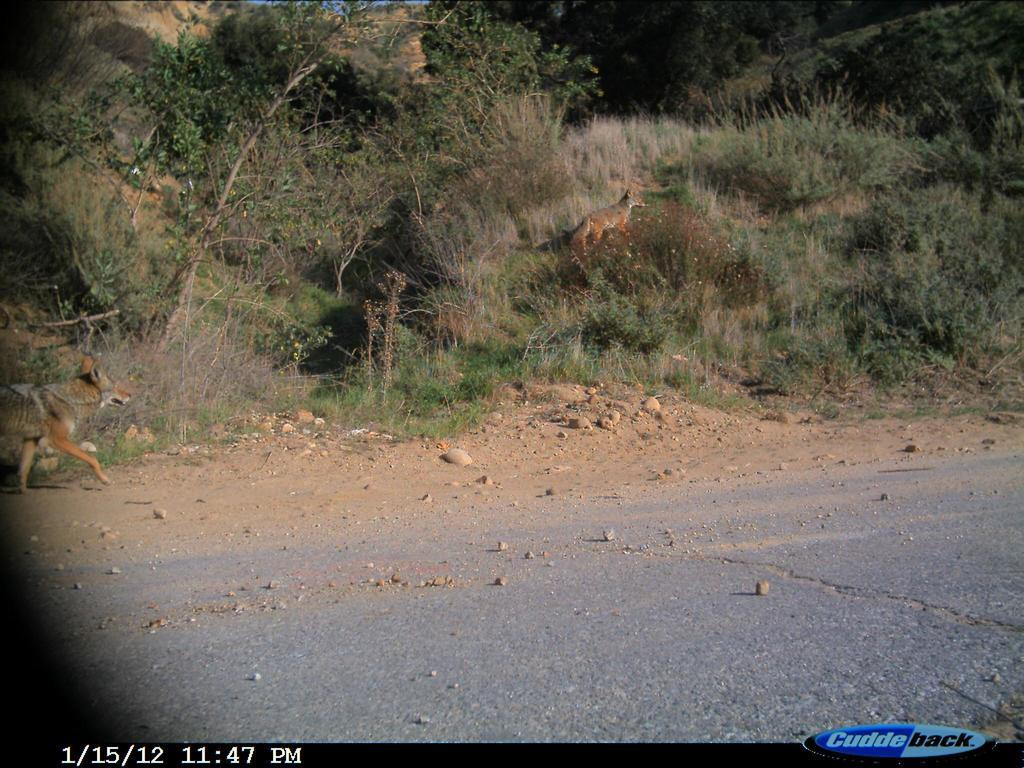coyote: (1, 350, 143, 495)
